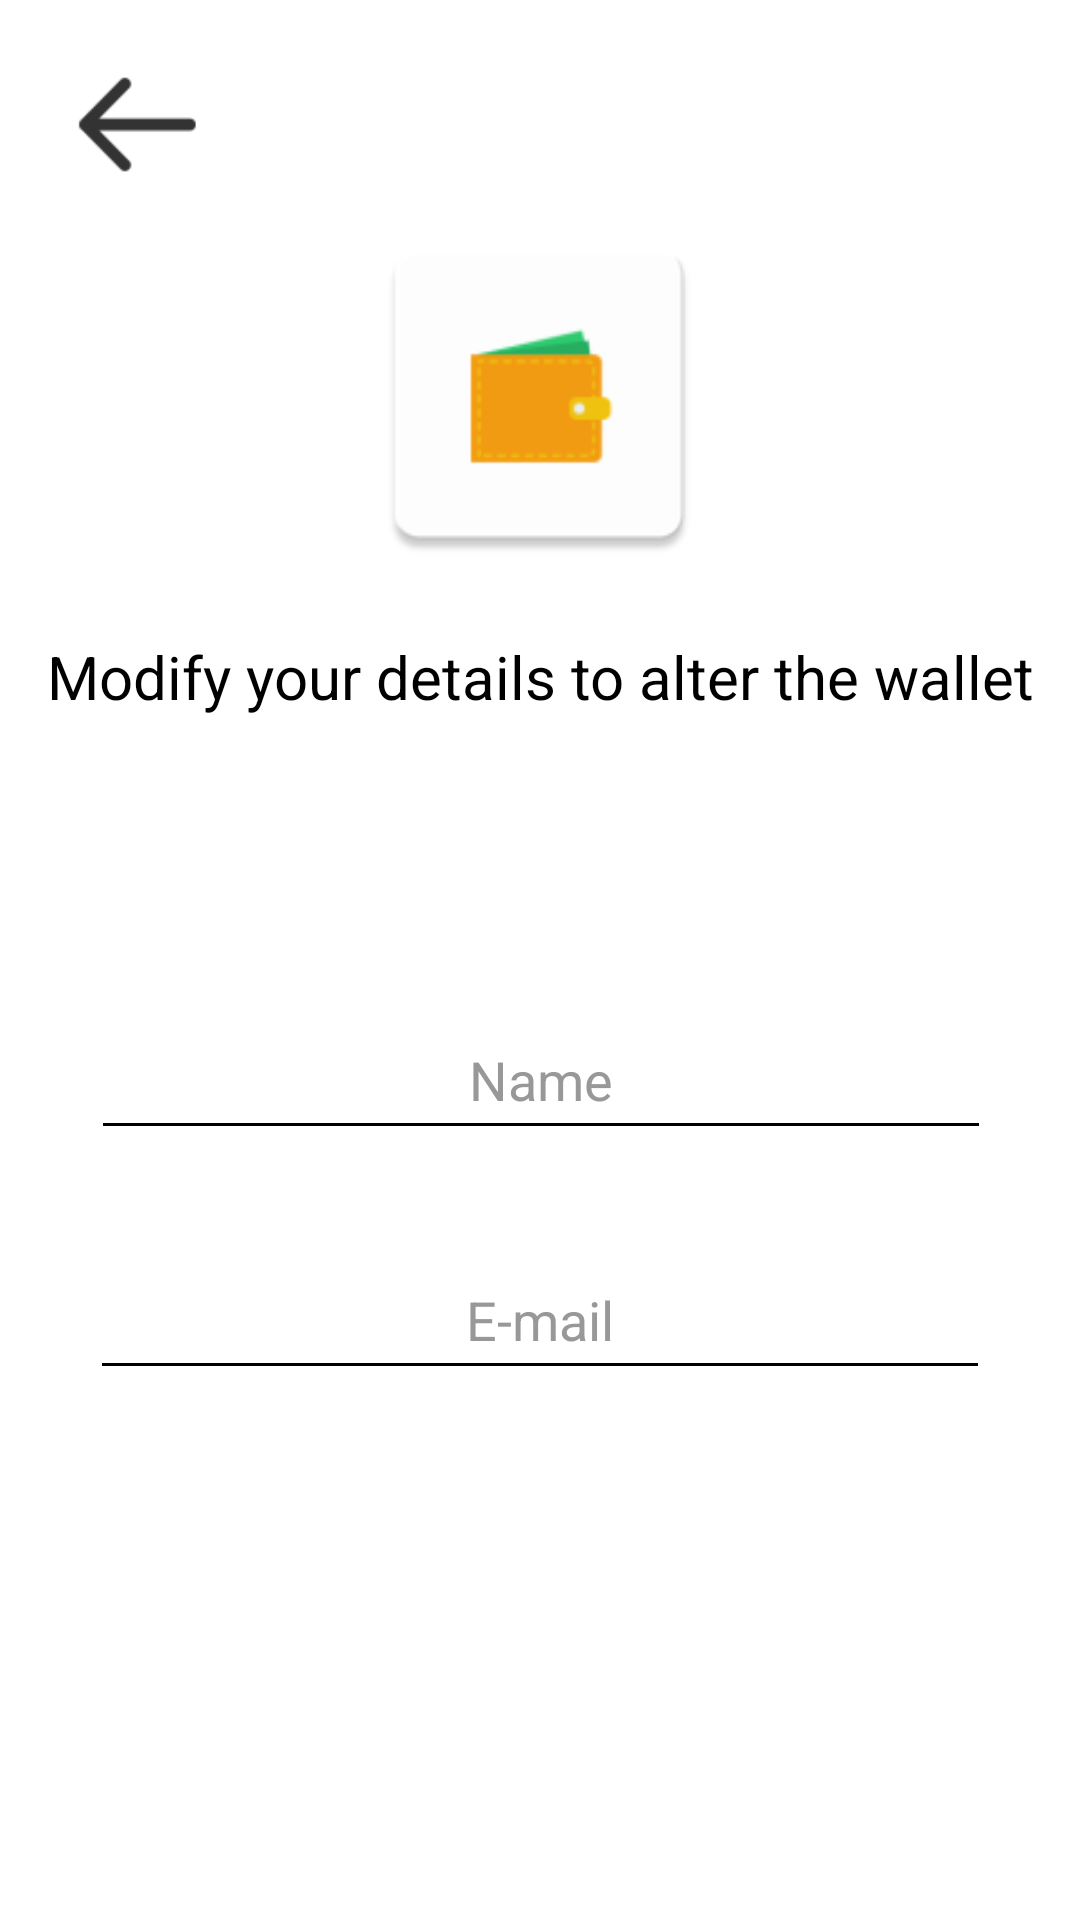

Named icons in this screenshot (1080*1920) and their centers, [x,y]:
back arrow: [137,124]
